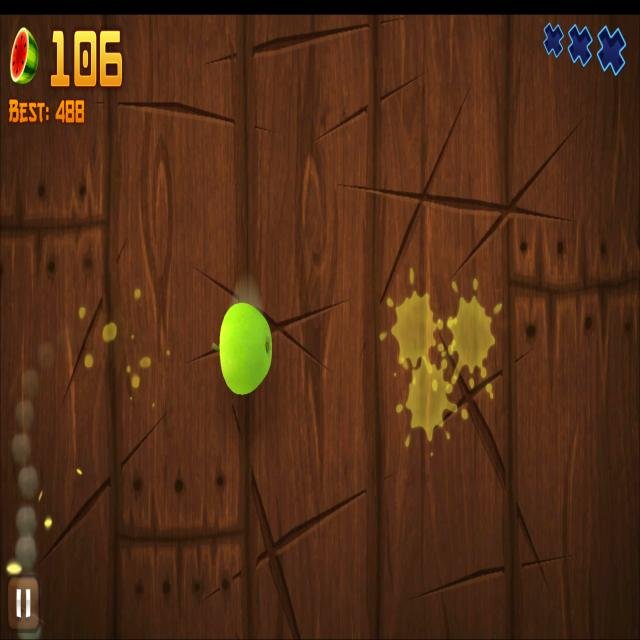fruit: (220, 304, 272, 395)
